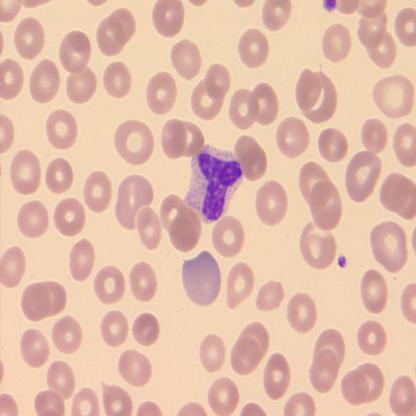Metamyelocyte: (182, 141, 244, 226)
